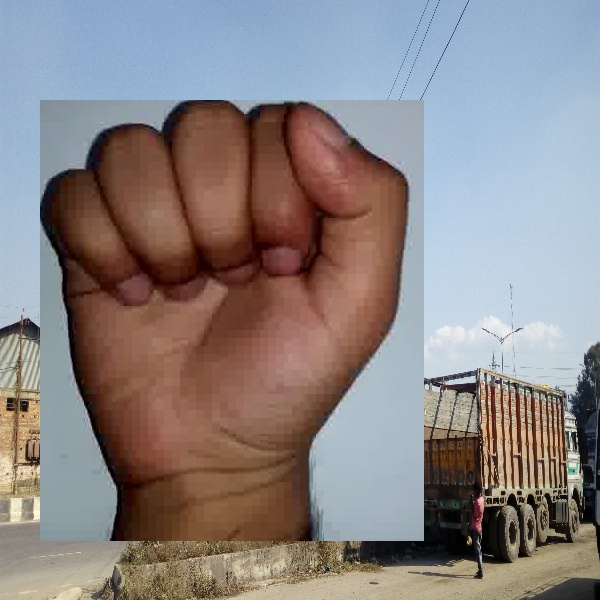A: (40, 100, 424, 541)
